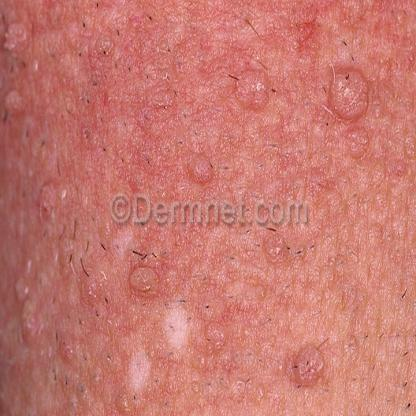Warts: (326, 58, 378, 160), (284, 333, 332, 395), (230, 59, 278, 116), (177, 146, 221, 190)
